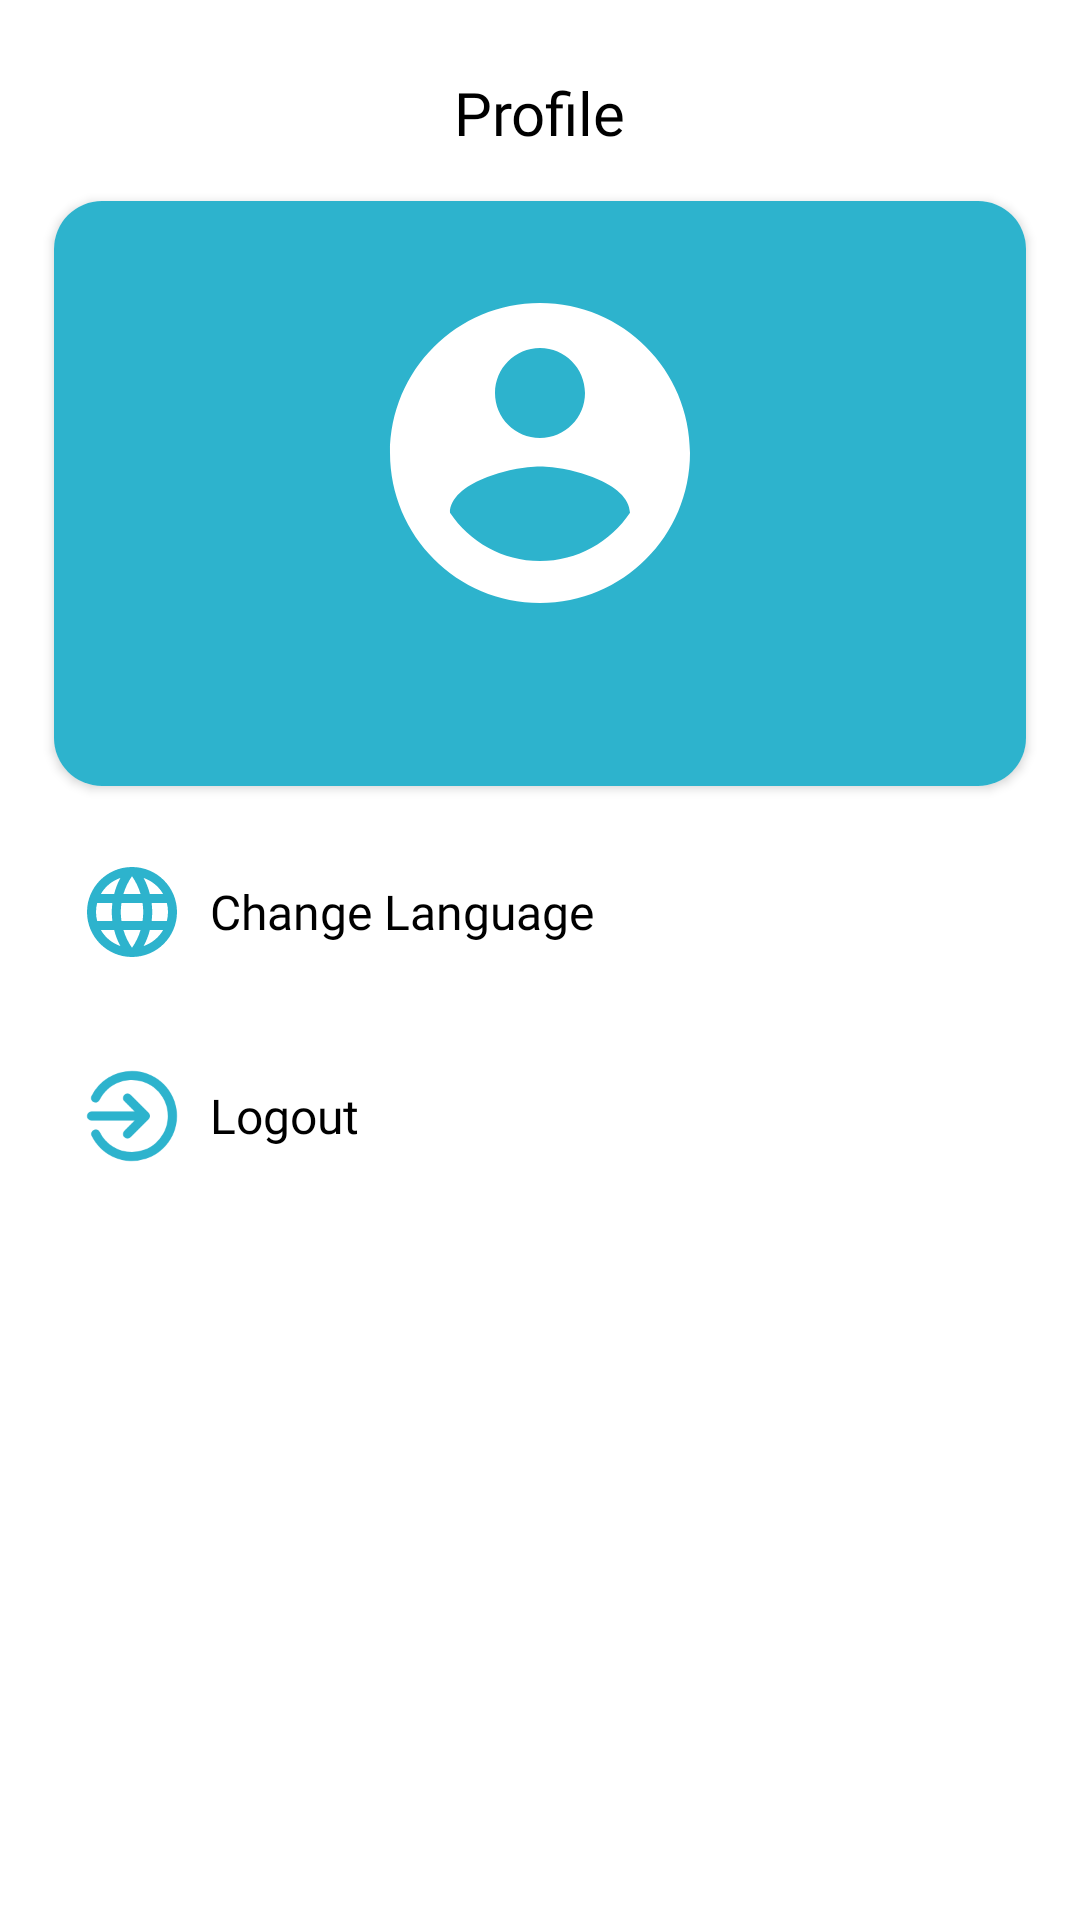

Icons on this 1080px x 1920px Android screen, each with the point to tap as [x,y]:
Account: [540,453]
